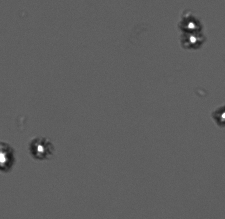Living Cell: (178, 31, 206, 49), (31, 138, 50, 160), (180, 15, 202, 33), (1, 146, 14, 172)
